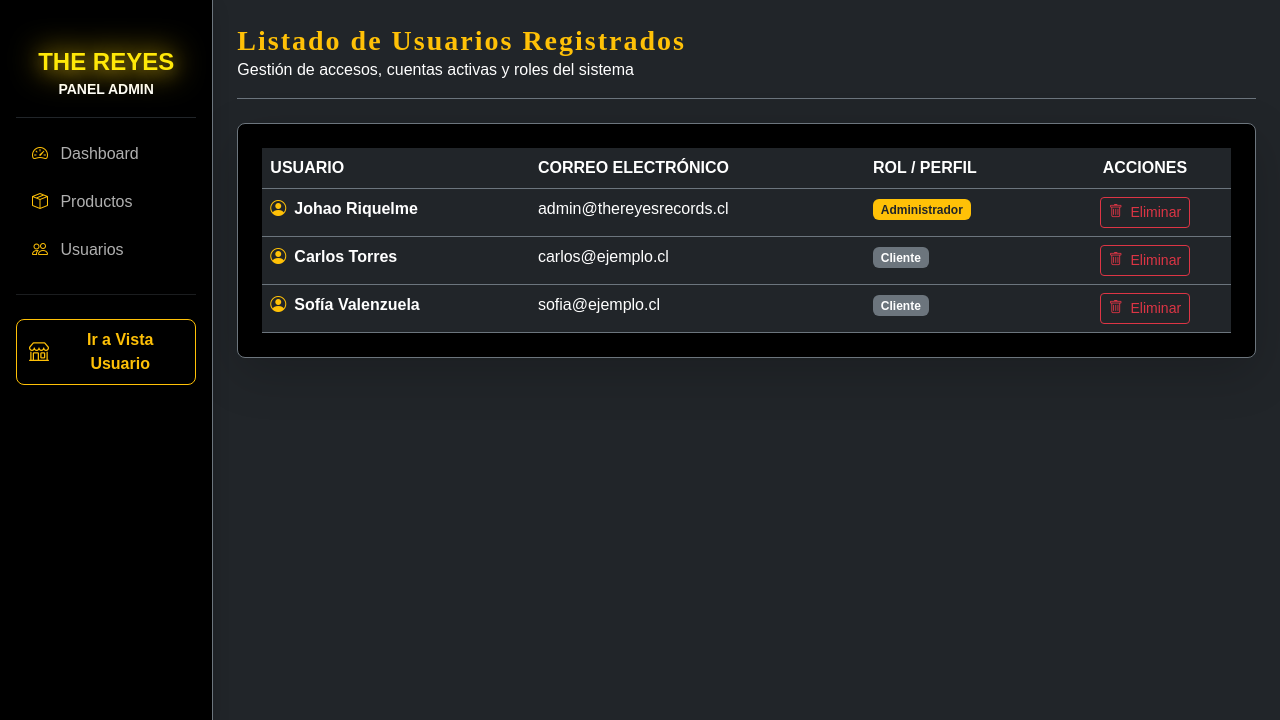
it: AdminUsuarios Component › debe remover al usuario seleccionado tras la confirmación
This screenshot has width=1280, height=720.
Click the button "Eliminar" in the row of "Carlos Torres".
click(1145, 260)  # box [1100, 245, 1190, 276]
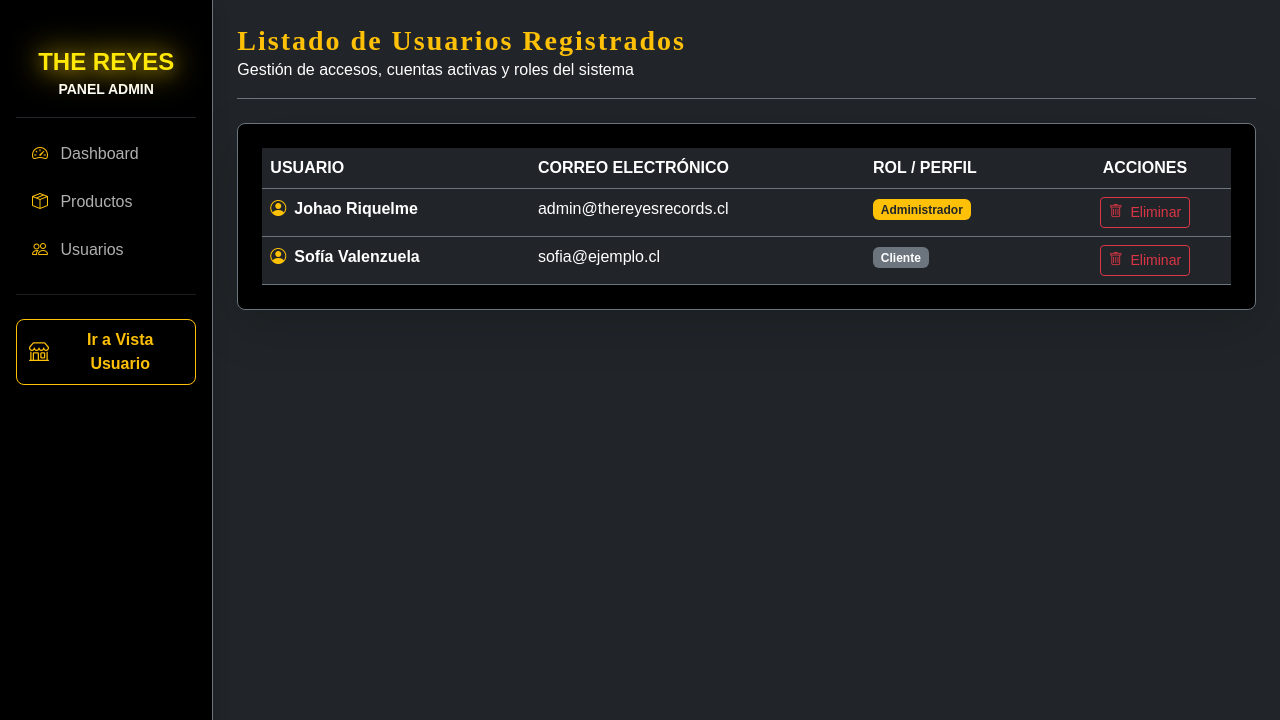
Expected: the text "Carlos Torres" is gone
